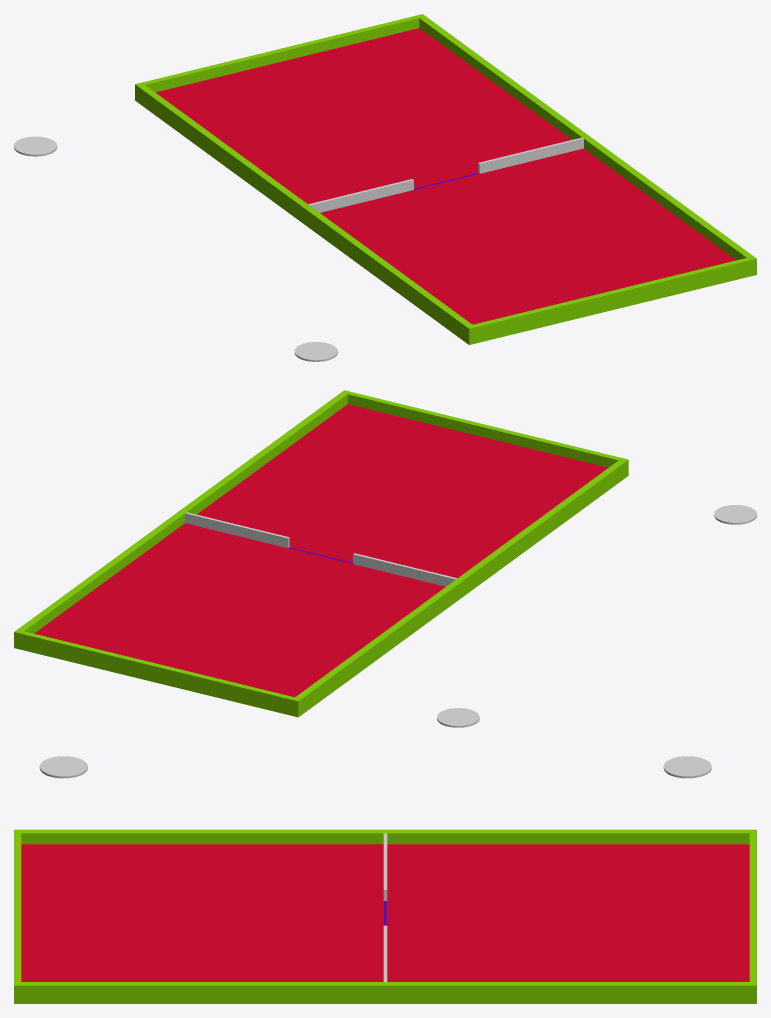
The model's file is board01.fbx.
The picture shows the model from 3 angles, top to bottom: view 1: azimuth 30°, elevation 25°; view 2: azimuth 150°, elevation 25°; view 3: azimuth 270°, elevation 25°; orthographic projection. The views are drawn at different scales.
Visible parts, largest first — view 1: table, block02, block01, COIN2, COIN1; view 2: table, block02, block01, COIN1, COIN2; view 3: table, COIN2, COIN1.
Part boxes in pixels (<box>): table: <box>135,14,756,344</box>; block02: <box>478,137,583,173</box>; block01: <box>308,179,413,212</box>; COIN2: <box>14,136,57,156</box>; COIN1: <box>294,342,337,361</box>; table: <box>14,390,628,717</box>; block02: <box>185,512,289,547</box>; block01: <box>353,553,456,586</box>; COIN1: <box>714,505,756,524</box>; COIN2: <box>437,708,479,727</box>; table: <box>14,829,756,1003</box>; COIN2: <box>663,756,711,778</box>; COIN1: <box>39,756,87,778</box>.
Size of the model in its own units: 901 by 32.05 by 1193.
